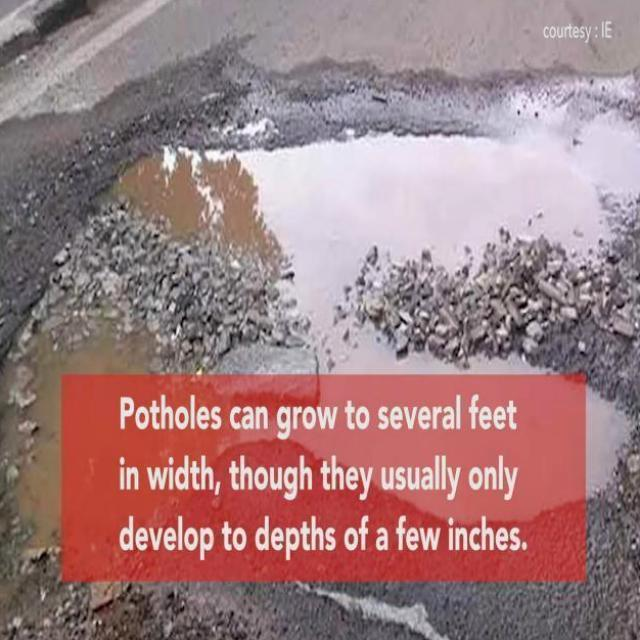Pathole: (5, 129, 610, 562)
